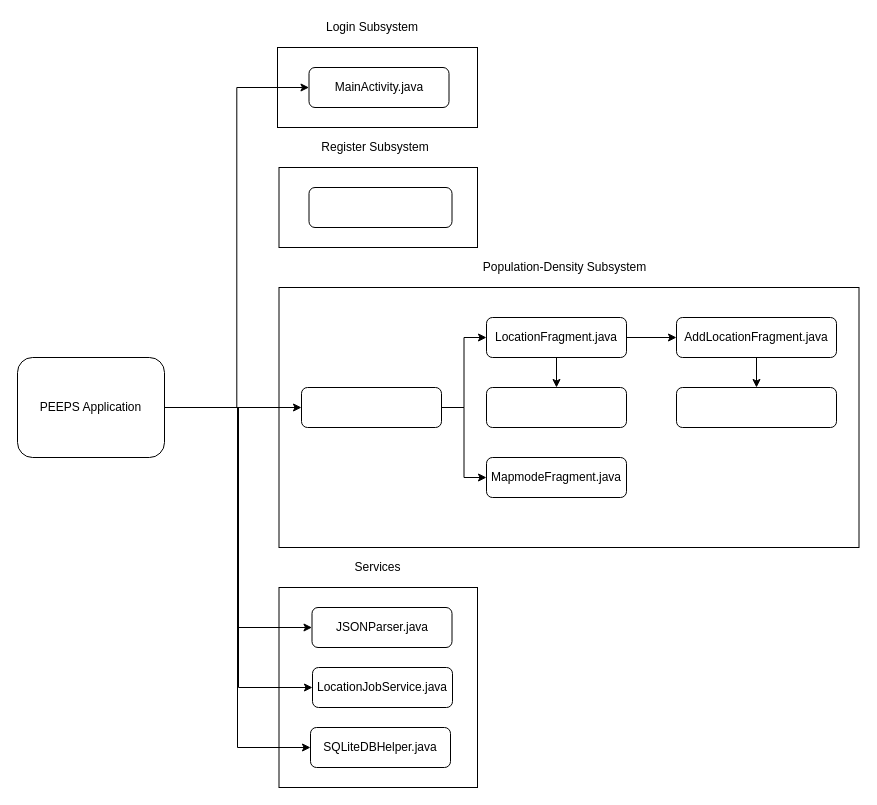
The diagram is 877 pixels wide and 805 high, and some of its shapes have lost their labels. Each missing label, with the box of its shape:
CustomSpinnerAdapter.java: (676, 386, 836, 428)
PopDensityActivity.java: (300, 386, 442, 428)
RecyclerAdapter.java: (486, 386, 626, 428)
RegisterActivity.java: (308, 186, 452, 228)
